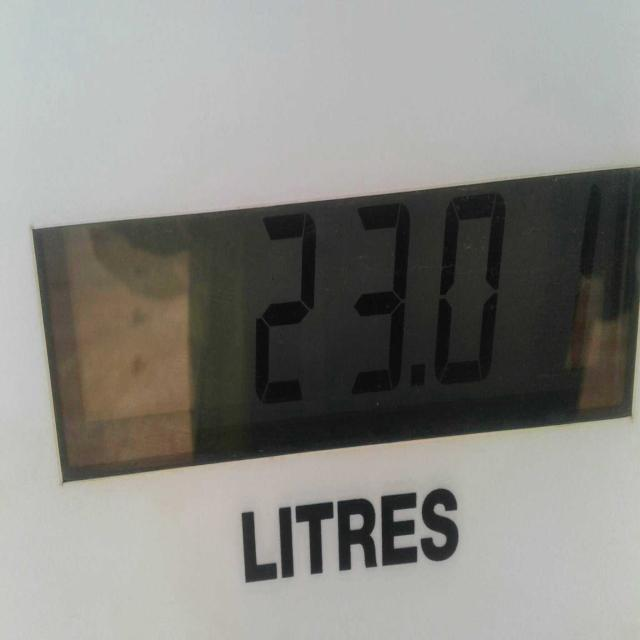.: (398, 345, 434, 411)
0: (426, 182, 512, 410)
2: (251, 200, 321, 420)
3: (338, 197, 418, 420)
